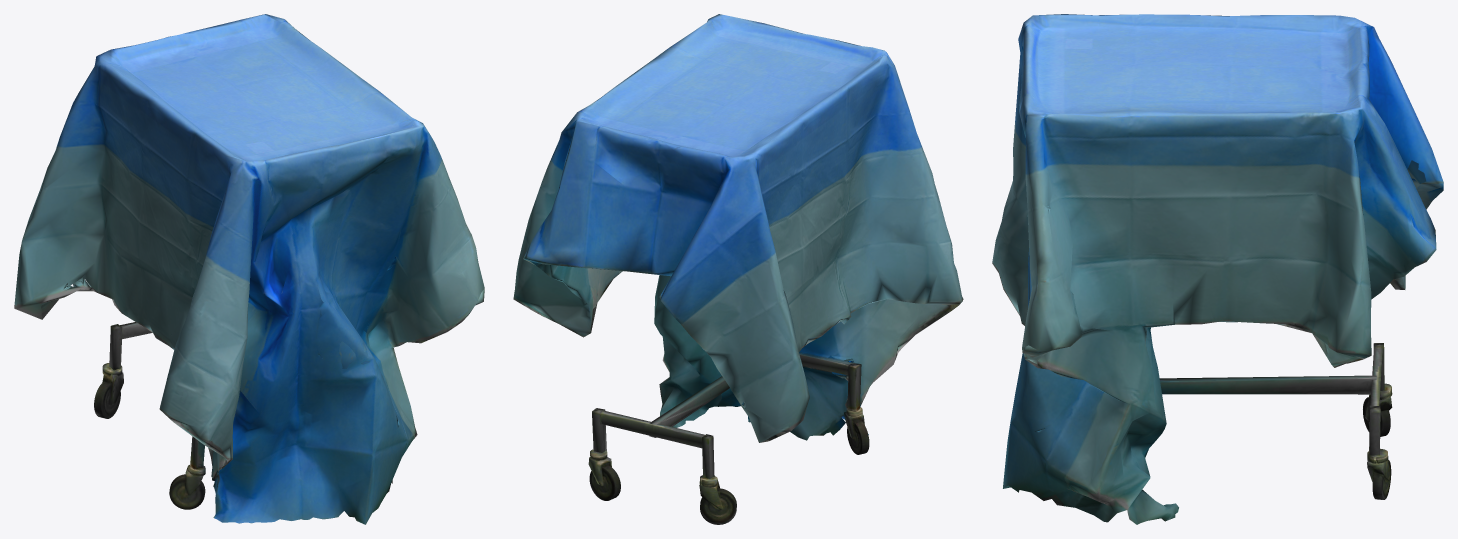
Rendered from table_sterile_3.glb.
3 views of the same model, side by side, from view 1: azimuth 30°, elevation 25°; view 2: azimuth 150°, elevation 25°; view 3: azimuth 270°, elevation 25° (orthographic). The views are drawn at different scales.
Visible parts, largest first — view 1: Object_2; view 2: Object_2; view 3: Object_2.
Part boxes in pixels (x1=…): Object_2: x1=14, y1=14, x2=484, y2=524; Object_2: x1=513, y1=14, x2=963, y2=524; Object_2: x1=992, y1=14, x2=1443, y2=524.
Bounding box in the file's own units: 0.8664 × 0.9742 × 0.9546.
1 material, 1 textured.
